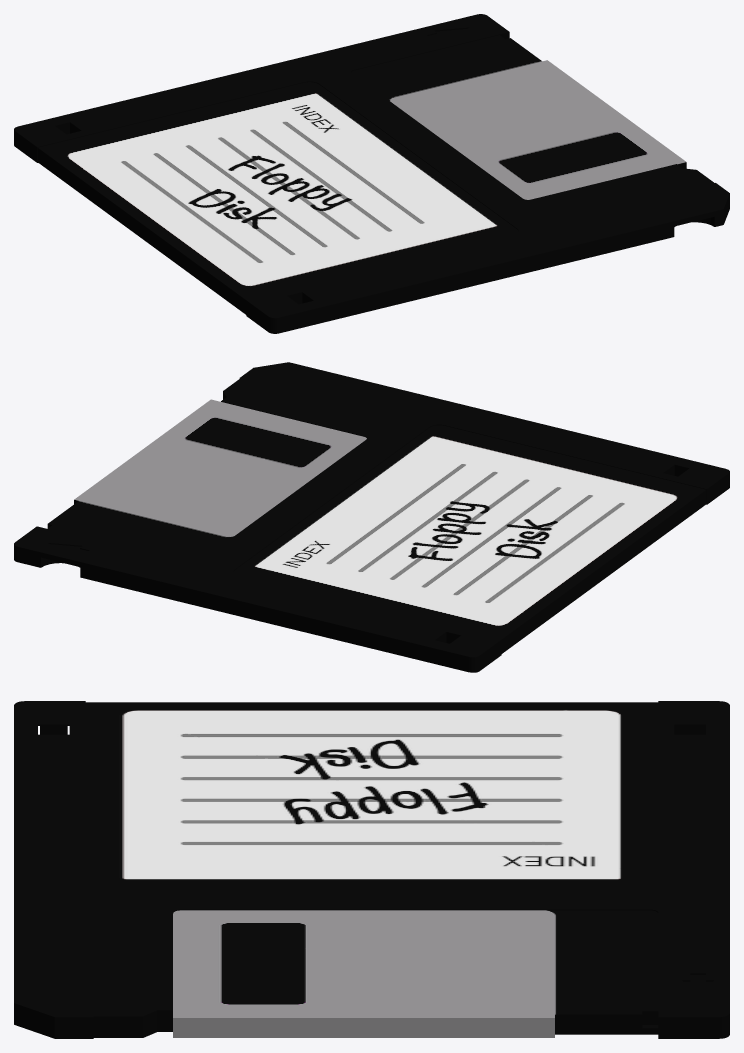
File: floppy_disk.glb
3 renders of one model, top to bottom at view 1: azimuth 30°, elevation 25°; view 2: azimuth 150°, elevation 25°; view 3: azimuth 270°, elevation 25°, orthographic. The views are drawn at different scales.
Visible parts, largest first — view 1: Floppy Disk_2; view 2: Floppy Disk_2; view 3: Floppy Disk_2.
Boxes of the visible parts, x1=… form: Floppy Disk_2: x1=14, y1=14, x2=729, y2=333; Floppy Disk_2: x1=14, y1=362, x2=729, y2=672; Floppy Disk_2: x1=14, y1=701, x2=729, y2=1038.
Size of the model in its own units: 94 by 3 by 90.
5 materials, 3 textured.
